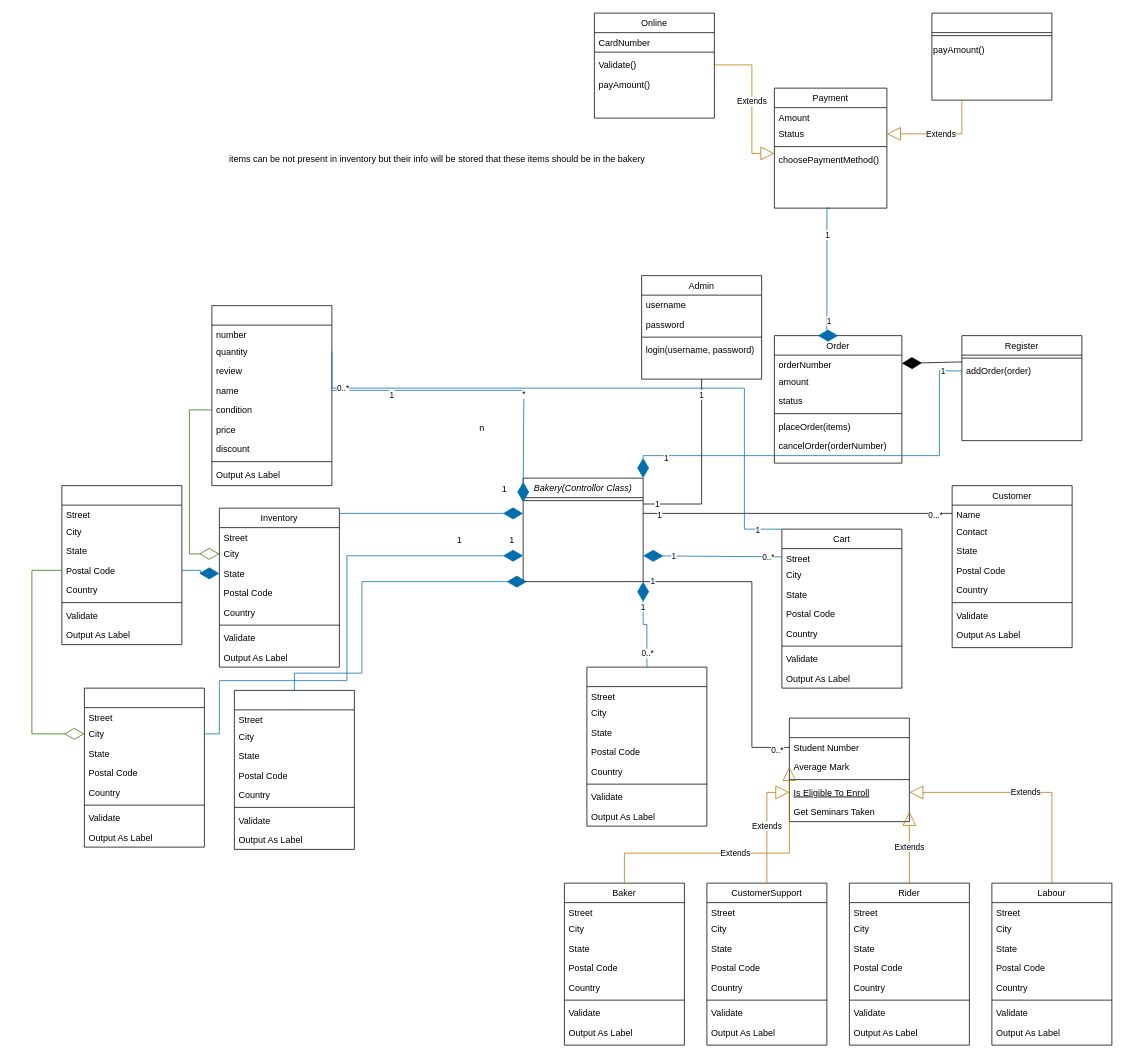
The diagram is 1125 pixels wide and 1058 high, and some of its shapes have lost their labels. Here are the shapes that lost their labels. From the top down, the box of each, then its label:
(931, 12, 1052, 100): COD
(211, 305, 332, 486): BakeryItems
(61, 485, 182, 645): Ingredients
(586, 666, 707, 826): Sales
(84, 687, 204, 847): Recipe
(234, 690, 354, 849): Kitchen
(789, 717, 909, 822): Employee
